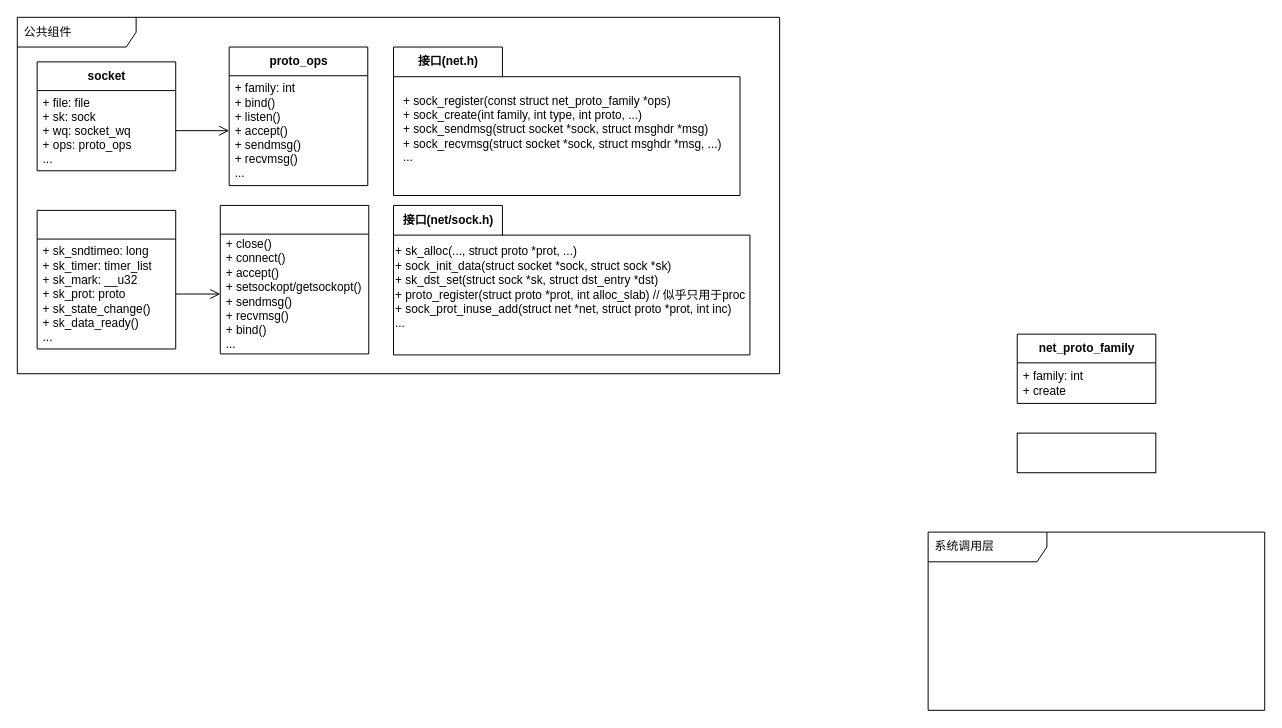
Image size: 1282x728. Some labels were removed from this diagram. Each missing label, with the box of its shape:
net_families[NPROTO]: (1016, 432, 1156, 473)
proto: (219, 204, 369, 354)
sock: (36, 209, 176, 349)
